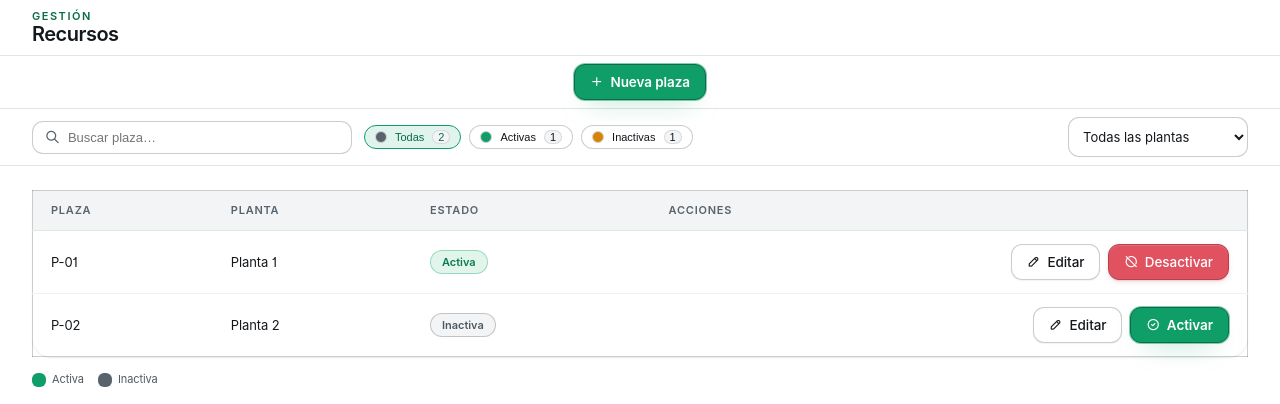
Test: ParkingSpacesPage › should_request_active_filter_when_selecting_active
This screenshot has width=1280, height=404.
Expected: the text "P-01" is shown, [32,230,213,294]
Click the button "Activas 1" at (521, 137), box [470,125,573,149]
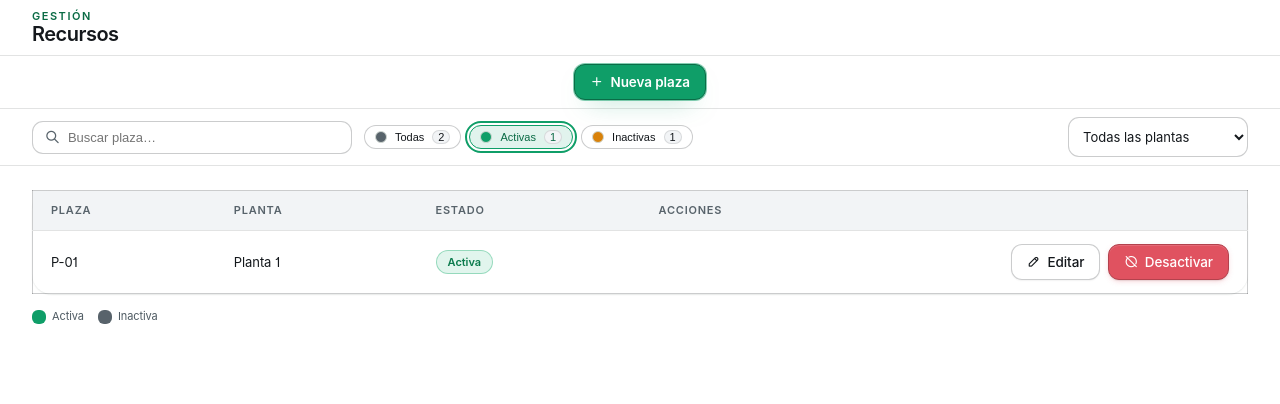
Expected: the text "P-01" is shown, [32,230,216,294]
Expected: the text "P-02" is gone
